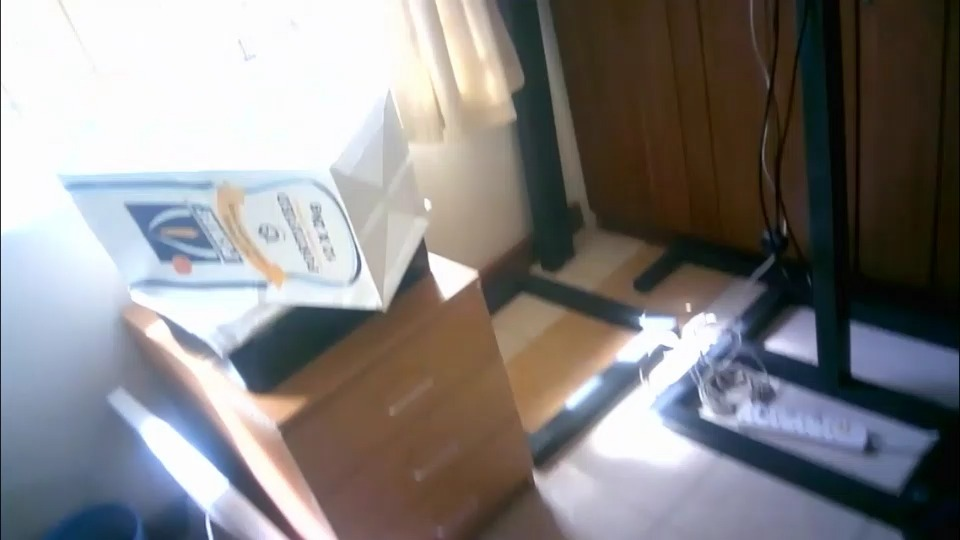wheat_flour_blue_label: (61, 89, 430, 309)
